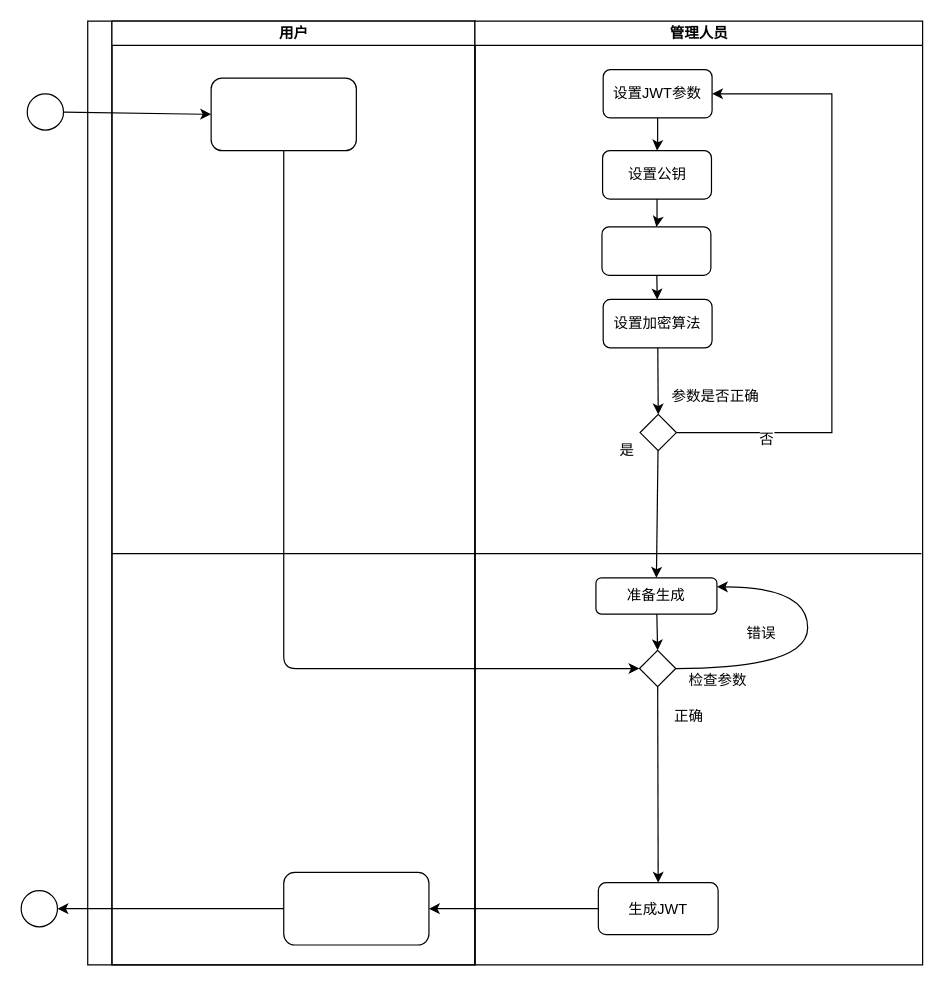
Some shapes in this 944 by 986 pixel diagram are drawn without their labels. Each missing label, with the centre of its shape:
获取JWT并保存: the point at 356,908
设置签名时长: the point at 656,250
请求获取JWT: the point at 283,114
